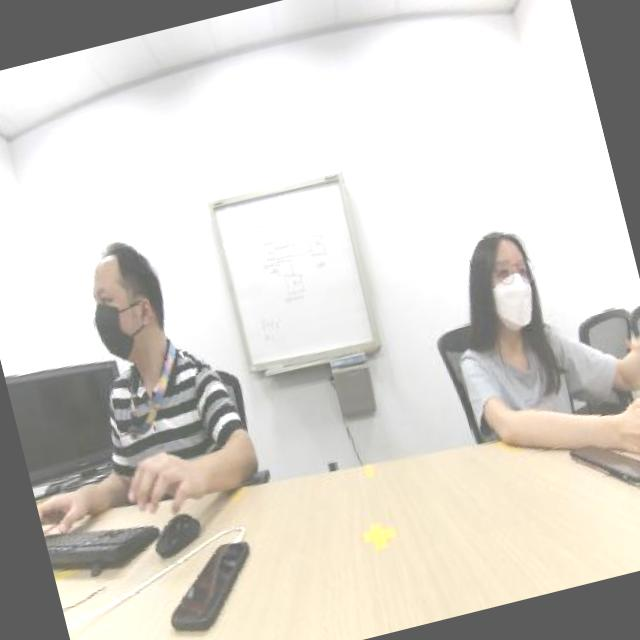Person: (48, 200, 262, 508), (418, 172, 639, 454)
